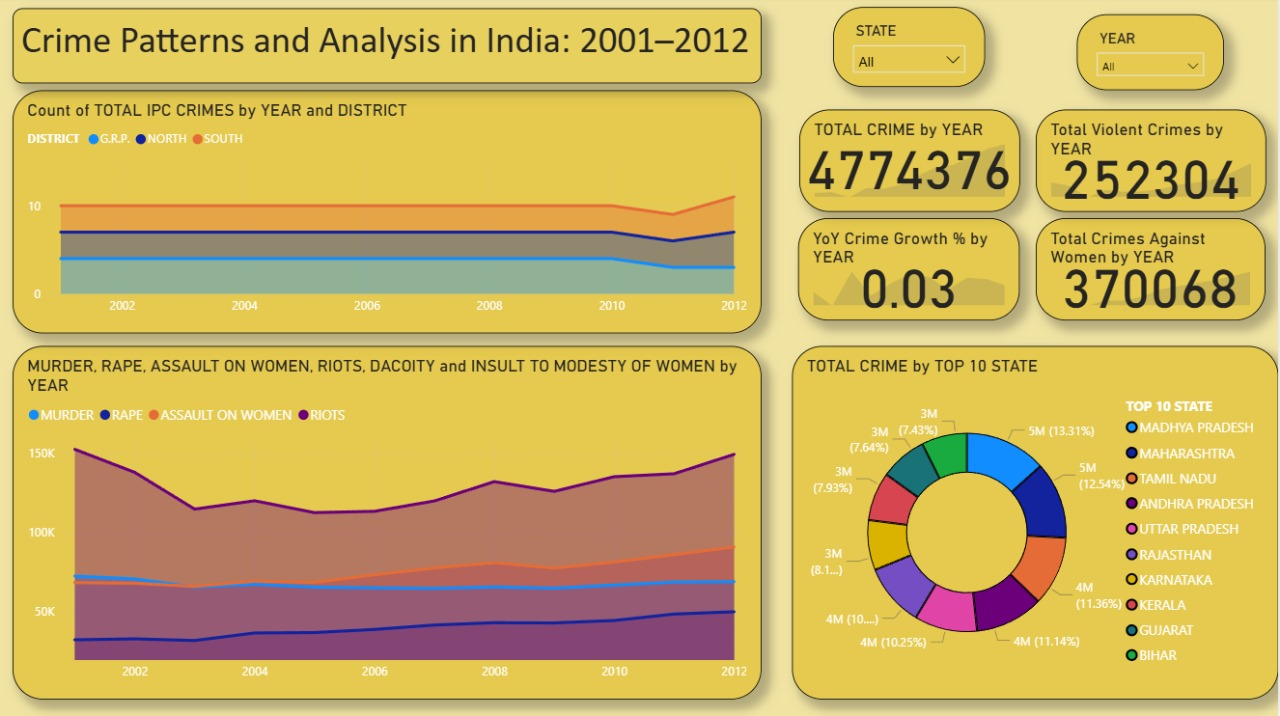

The page's visual inventory and layout, read from the dashboard file:
{"tool":"powerbi","page":{"name":"Page 1","canvas":[1280,720],"ordinal":0},"visuals":[{"type":"donutChart","fields":{"Category":["DistrictCrime.STATE"],"Y":["Sum(DistrictCrime.TOTAL IPC CRIMES)"]},"box":[783,349.9,481.4,353.5],"z":0},{"type":"kpi","fields":{"TrendLine":["DistrictCrime.YEAR"],"Indicator":["DistrictCrime.Total Violent Crimes"]},"box":[1020.7,111.6,230,103.6],"z":1000},{"type":"slicer","fields":{"Values":["DistrictCrime.YEAR"]},"box":[1049.6,15.7,172.5,76],"z":2000},{"type":"slicer","fields":{"Values":["DistrictCrime.STATE"]},"box":[801.1,14.5,185.8,79.6],"z":4000},{"type":"areaChart","fields":{"Category":["DistrictCrime.YEAR"],"Y":["Sum(DistrictCrime.MURDER)","Sum(DistrictCrime.RAPE)","Sum(DistrictCrime.ASSAULT ON WOMEN)","Sum(DistrictCrime.RIOTS)"]},"box":[14.5,349.9,749.2,353.5],"z":5000},{"type":"kpi","fields":{"Indicator":["Sum(DistrictCrime.TOTAL IPC CRIMES)"],"TrendLine":["DistrictCrime.YEAR"]},"box":[784,111.6,220.6,103.6],"z":6000},{"type":"kpi","fields":{"TrendLine":["DistrictCrime.YEAR"],"Indicator":["DistrictCrime.YoY Crime Growth %"]},"box":[783.5,225,220.9,102.9],"z":7000},{"type":"kpi","fields":{"TrendLine":["DistrictCrime.YEAR"],"Indicator":["DistrictCrime.Total Crimes Against Women"]},"box":[1020.9,225,229.2,102.9],"z":8000},{"type":"stackedAreaChart","fields":{"Category":["DistrictCrime.YEAR"],"Y":["Count(DistrictCrime.TOTAL IPC CRIMES)"],"Series":["DistrictCrime.DISTRICT"]},"box":[14.8,94.1,749.1,243.4],"z":9000},{"type":"textbox","box":[14.8,12.1,749.1,75.3],"z":10000}]}

Visuals, with their boxes in screenshot pixels (x1, y1, x2, y2), scaled from the page's 1280x720 canvas onto the 1280x716 screenshot:
donutChart - DistrictCrime.STATE x Sum(DistrictCrime.TOTAL IPC CRIMES): (783, 348, 1264, 699)
kpi - DistrictCrime.YEAR x DistrictCrime.Total Violent Crimes: (1021, 111, 1251, 214)
slicer - DistrictCrime.YEAR: (1050, 16, 1222, 91)
slicer - DistrictCrime.STATE: (801, 14, 987, 94)
areaChart - DistrictCrime.YEAR x Sum(DistrictCrime.MURDER): (14, 348, 764, 699)
kpi - Sum(DistrictCrime.TOTAL IPC CRIMES) x DistrictCrime.YEAR: (784, 111, 1005, 214)
kpi - DistrictCrime.YEAR x DistrictCrime.YoY Crime Growth %: (784, 224, 1004, 326)
kpi - DistrictCrime.YEAR x DistrictCrime.Total Crimes Against Women: (1021, 224, 1250, 326)
stackedAreaChart - DistrictCrime.YEAR x Count(DistrictCrime.TOTAL IPC CRIMES): (15, 94, 764, 336)
textbox: (15, 12, 764, 87)
